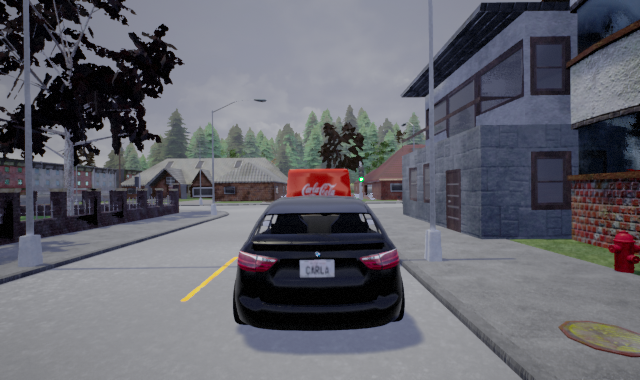vehicle: (230, 197, 405, 331), (279, 167, 358, 241)
